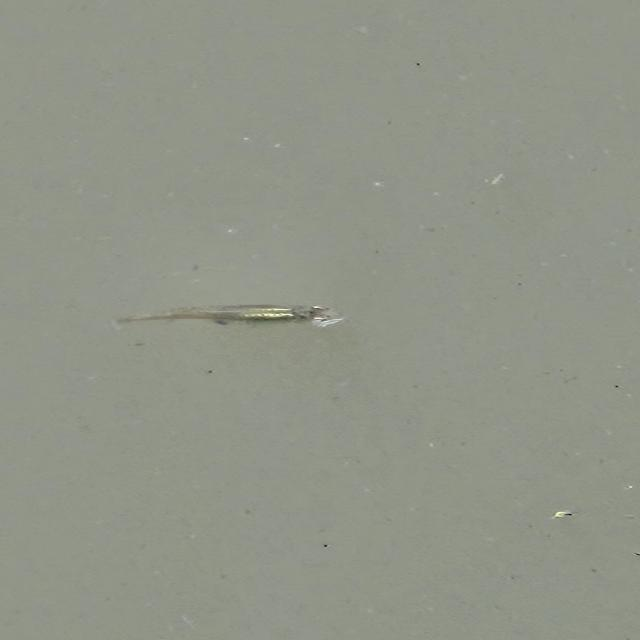Sivrisinek Baligi: (119, 299, 337, 331)
